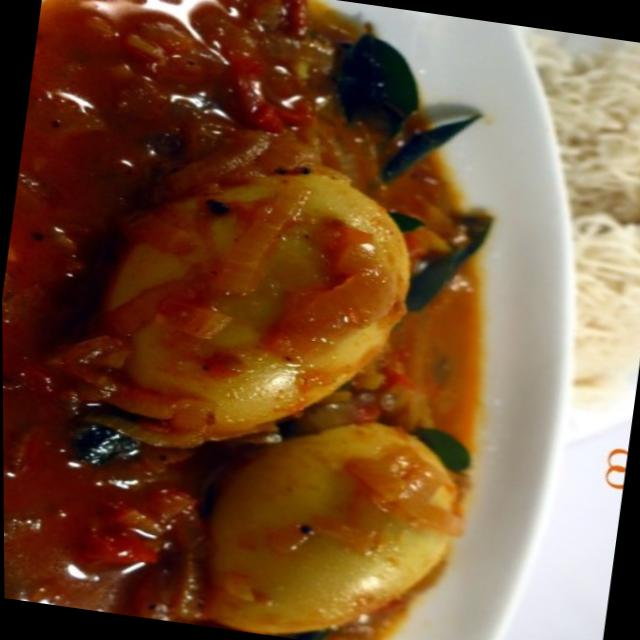EGG: (2, 0, 640, 640)
